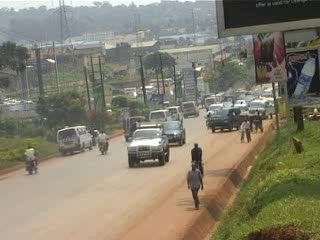Car: (125, 121, 171, 169), (122, 113, 150, 142), (159, 119, 188, 146), (204, 101, 226, 117), (234, 99, 247, 111)
Motorcycle: (22, 145, 41, 176), (95, 132, 110, 156)
